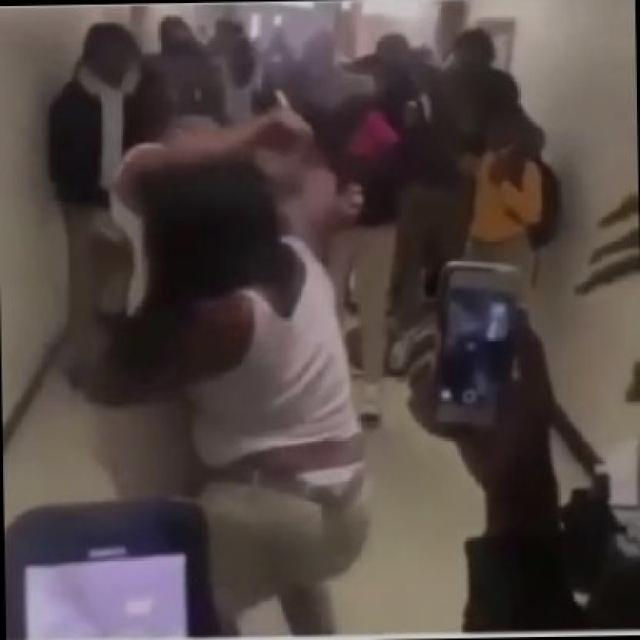fight: (52, 45, 394, 640)
non-fight: (41, 14, 136, 367), (445, 89, 567, 293)
